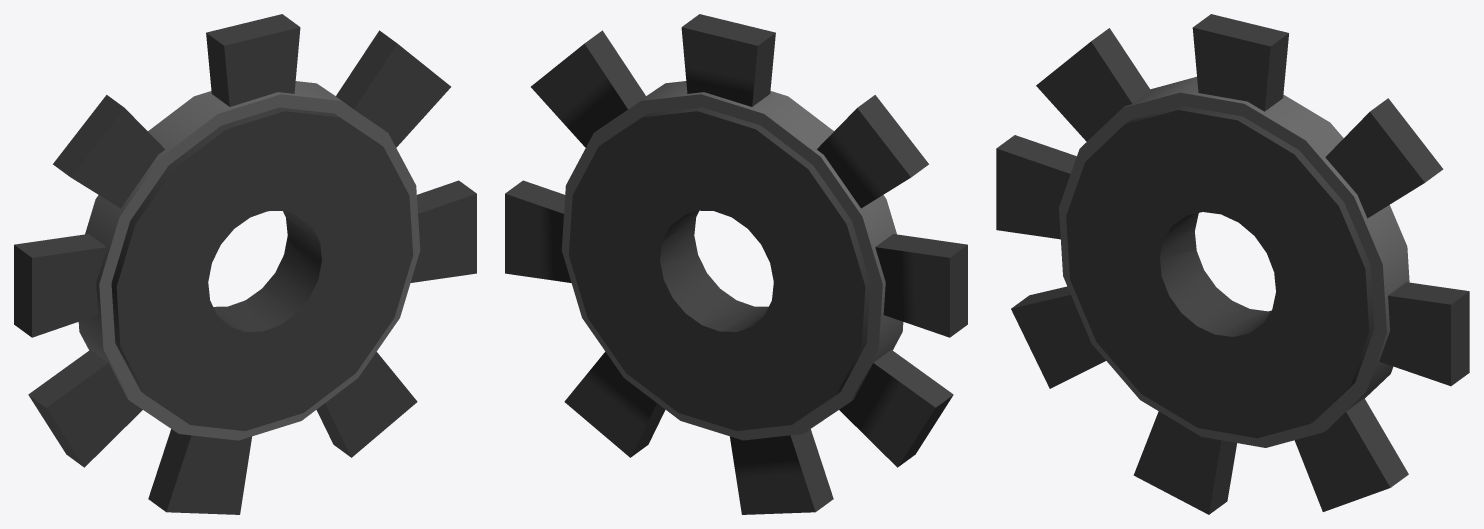
File: tandwiel_klein.fbx
The picture shows the model from 3 angles, left to right: view 1: azimuth 30°, elevation 25°; view 2: azimuth 150°, elevation 25°; view 3: azimuth 330°, elevation 25°; orthographic projection. The views are drawn at different scales.
Visible parts, largest first — view 1: polySurface13; view 2: polySurface13; view 3: polySurface13.
Part boxes in pixels (x1=…): polySurface13: x1=14, y1=14, x2=476, y2=514; polySurface13: x1=505, y1=14, x2=967, y2=514; polySurface13: x1=996, y1=14, x2=1469, y2=514.
Size of the model in its own units: 1.69 by 1.71 by 0.2253.
